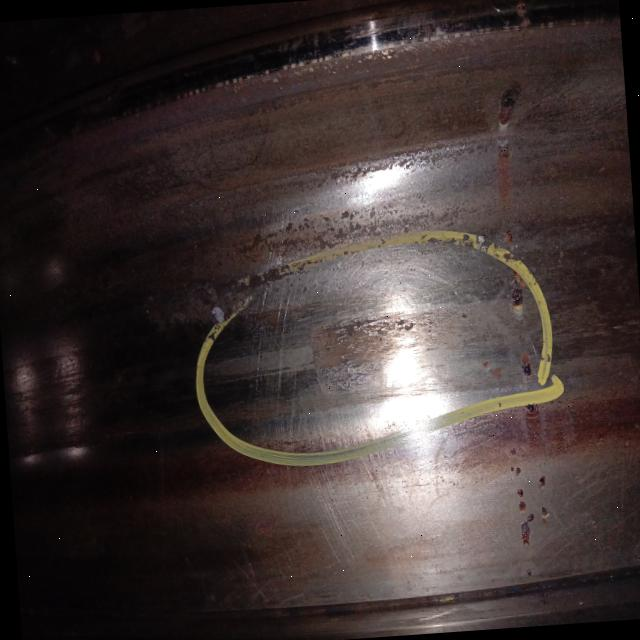Peeling: (301, 306, 454, 385)
